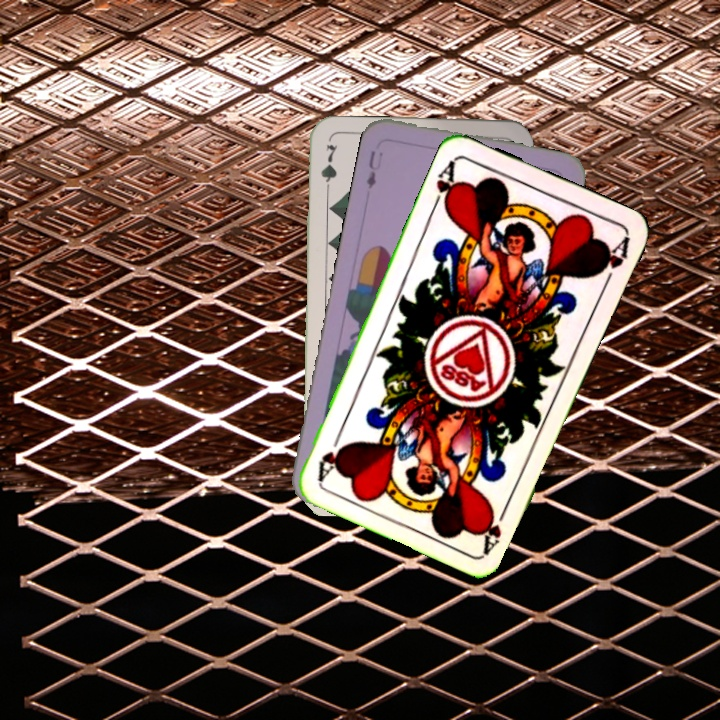EU: (362, 147, 386, 192)
G7: (317, 141, 339, 200)
HA: (427, 155, 461, 215), (477, 498, 512, 555)
